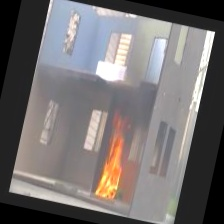fire: (86, 107, 141, 202)
